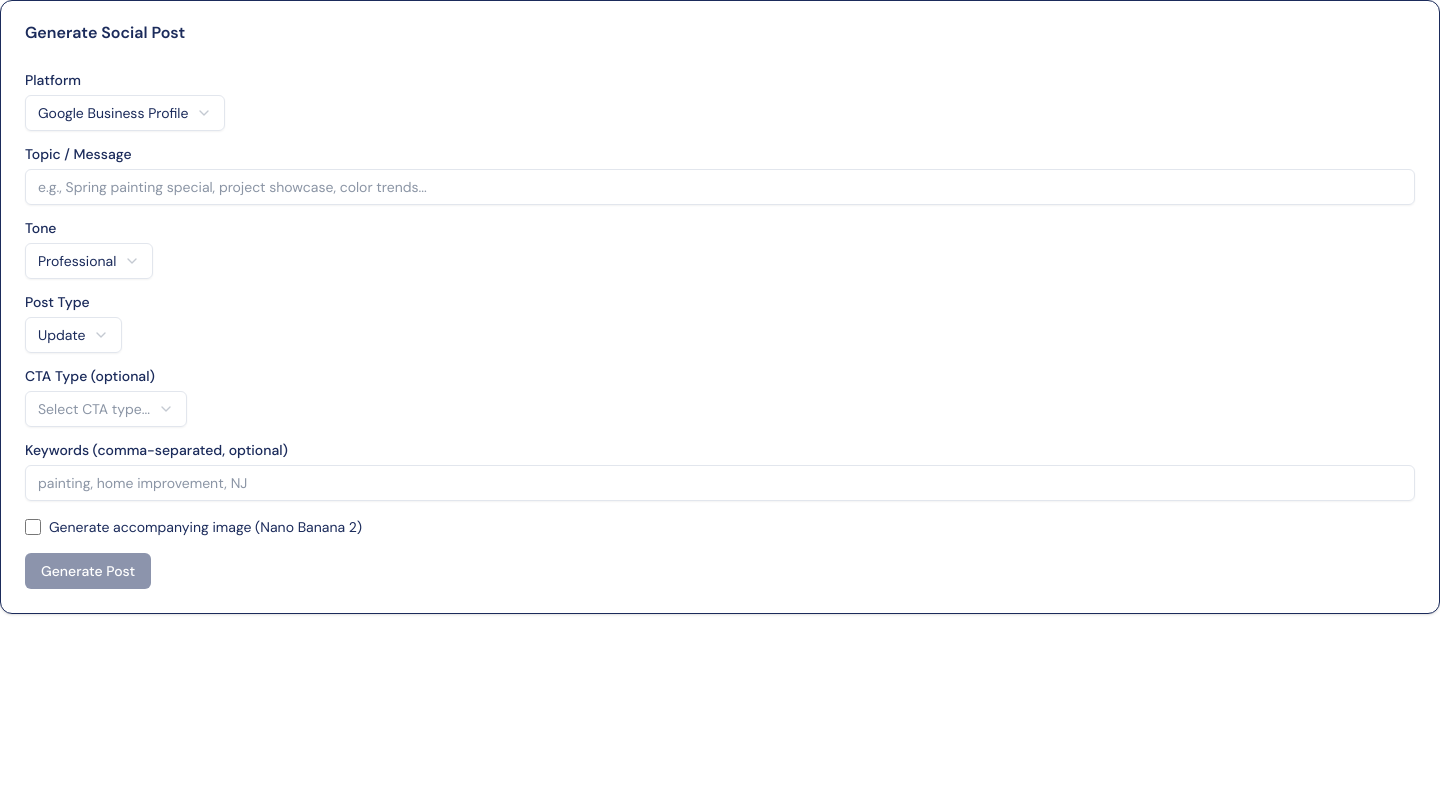
it: SocialGenerateForm › shows error message on failure
Type "Spring painting special" into the field labelled "Topic / Message".
click(720, 187); type("Spring painting special")  # box [25, 169, 1415, 205]
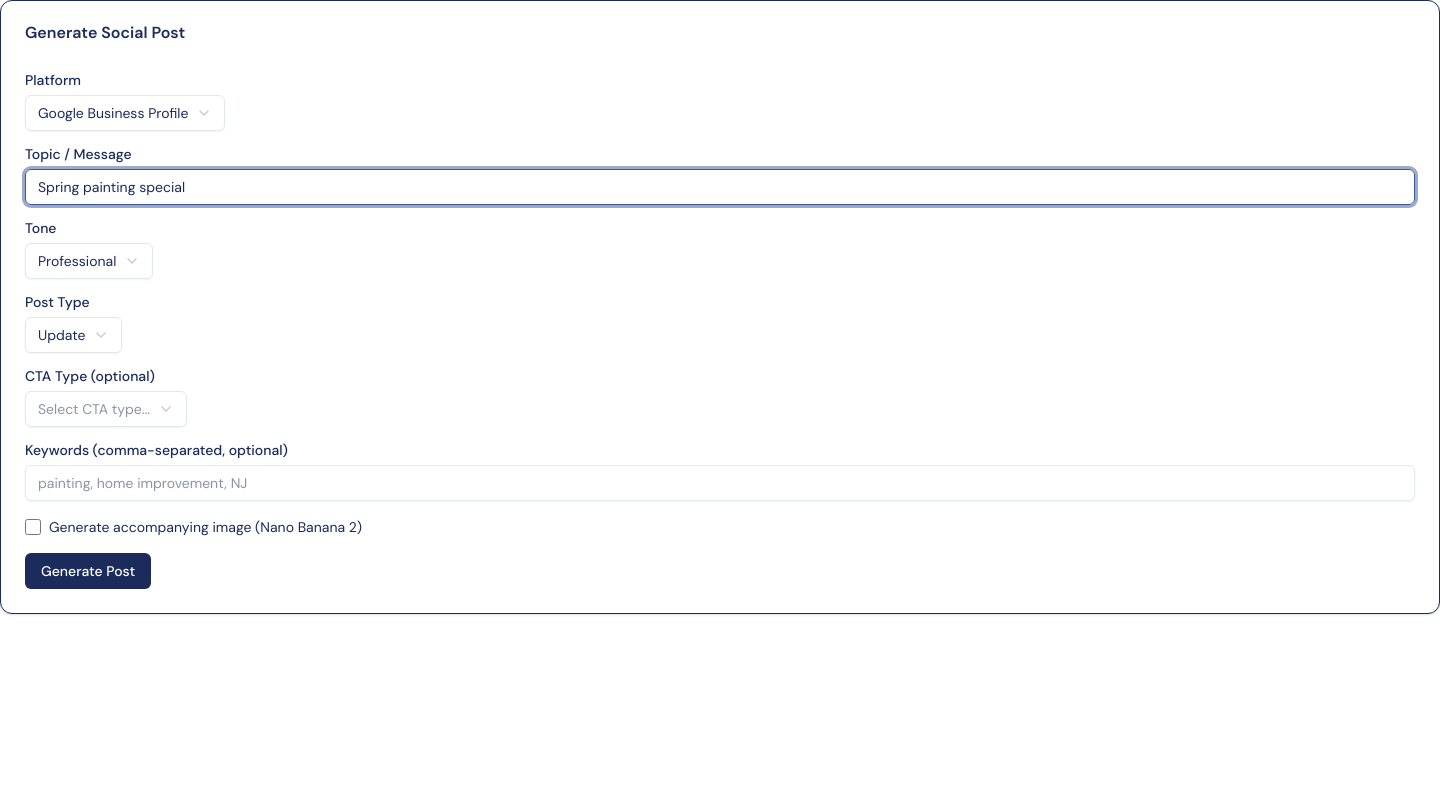
Click the button "Generate Post".
click(88, 571)  # box [25, 553, 151, 589]
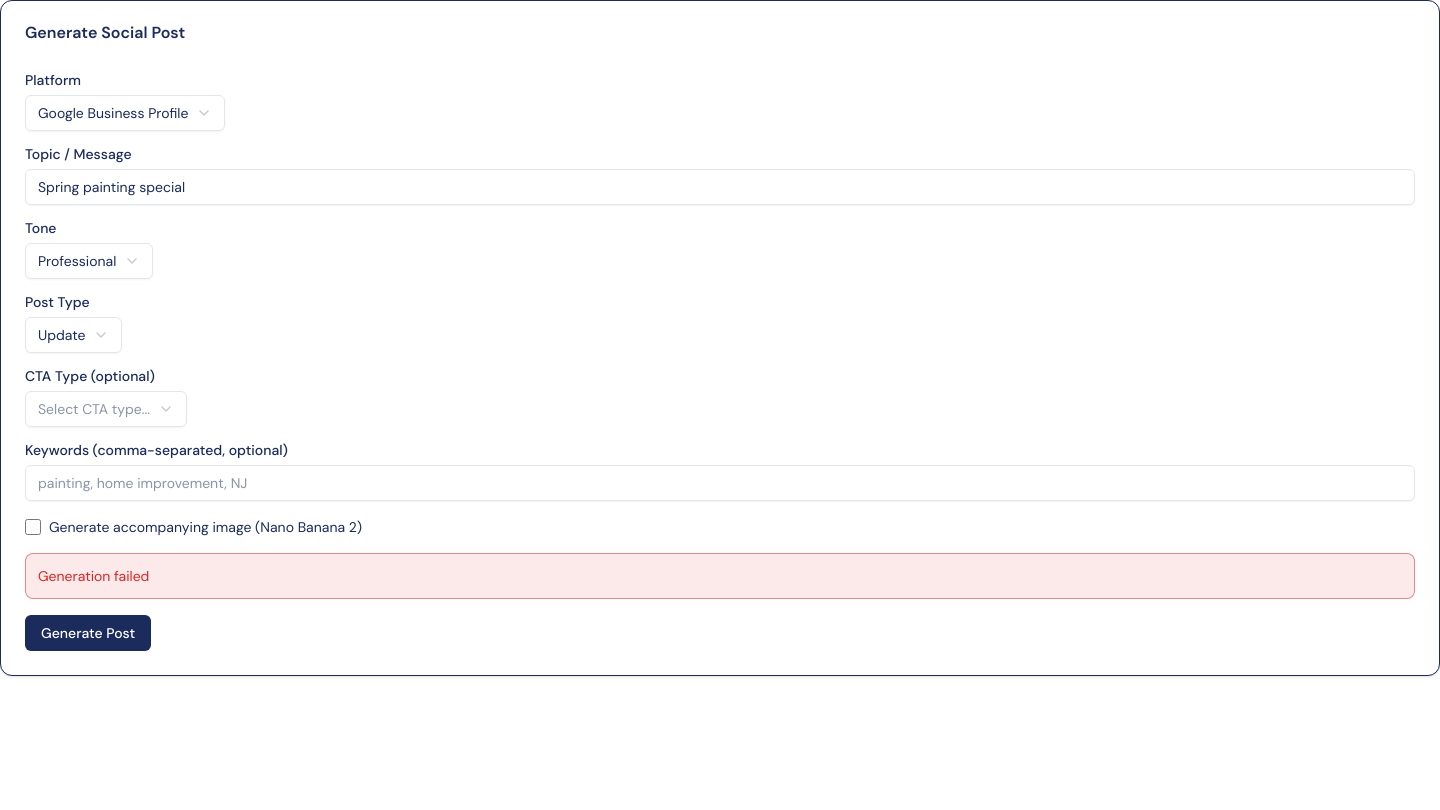
Expected: the text "Generation failed" is shown, [25, 553, 1415, 599]
